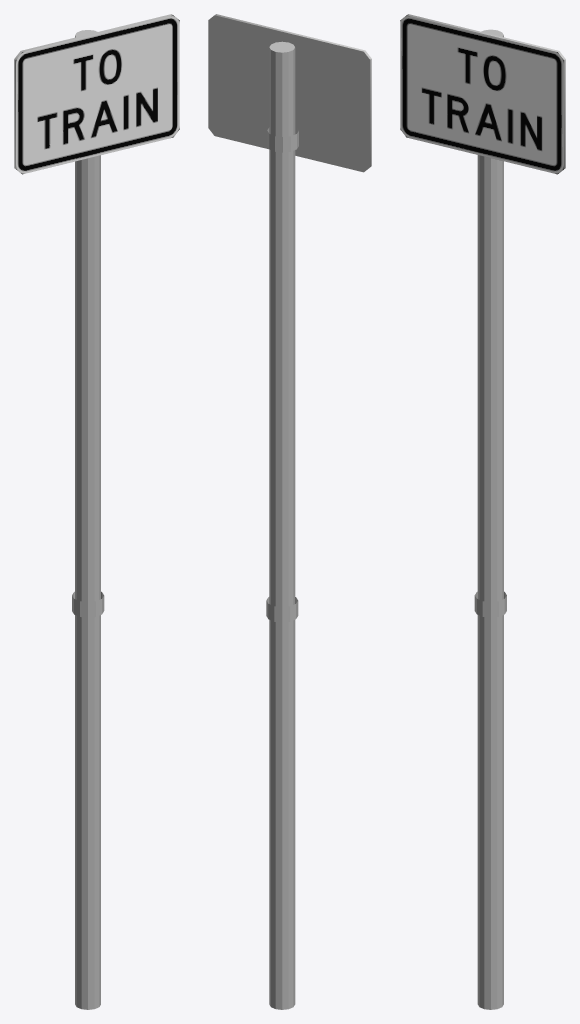
The model's file is SM_warning_sign_10.fbx.
The picture shows the model from 3 angles, left to right: view 1: azimuth 30°, elevation 25°; view 2: azimuth 150°, elevation 25°; view 3: azimuth 330°, elevation 25°; orthographic projection.
Parts seen in each view (by area): view 1: warning_sign_10; view 2: warning_sign_10; view 3: warning_sign_10.
Part boxes in pixels (x1,y1,x2,y2): warning_sign_10: (14, 14, 179, 1009); warning_sign_10: (208, 14, 371, 1009); warning_sign_10: (400, 14, 565, 1009).
Size of the model in its own units: 63.26 by 361 by 11.58.
